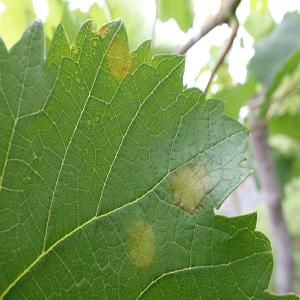Folha: (1, 15, 296, 299)
Fungo: (169, 162, 211, 216), (124, 218, 158, 270), (100, 25, 110, 38), (121, 66, 126, 74)
